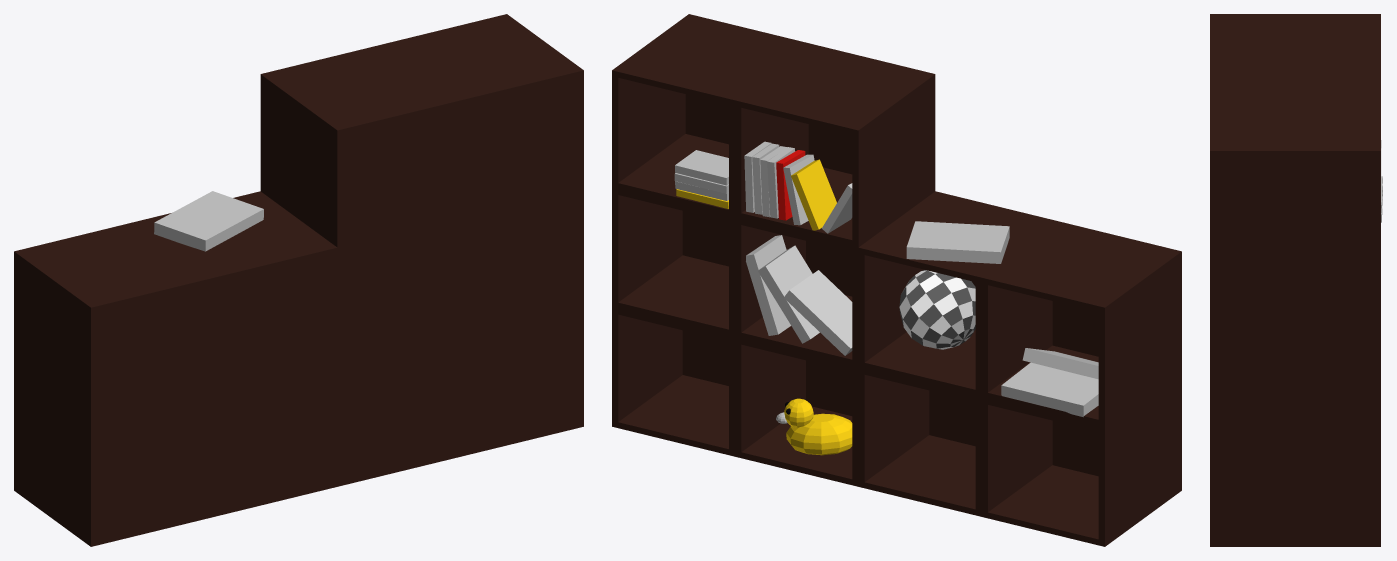
3 views of the same model, side by side, from view 1: azimuth 30°, elevation 25°; view 2: azimuth 150°, elevation 25°; view 3: azimuth 270°, elevation 25° (orthographic). The views are drawn at different scales.
Visible parts, largest first — view 1: group1329329239, group159381947; view 2: group1329329239, group1602327308, group159381947, group258849837, group287812142, group1066987434, group285218960, group2577447, group1245885350, group589443044, group1429174951, group1792446406 (+3 smaller); view 3: group1329329239.
Part boxes in pixels (bbox=[...]): group1329329239: bbox=[14, 14, 583, 546]; group159381947: bbox=[154, 191, 263, 251]; group1329329239: bbox=[612, 14, 1181, 546]; group1602327308: bbox=[899, 270, 975, 349]; group159381947: bbox=[906, 221, 1009, 263]; group258849837: bbox=[1001, 362, 1098, 417]; group287812142: bbox=[784, 270, 852, 355]; group1066987434: bbox=[776, 398, 852, 455]; group285218960: bbox=[758, 245, 819, 343]; group2577447: bbox=[746, 235, 790, 335]; group1245885350: bbox=[791, 159, 836, 230]; group589443044: bbox=[675, 150, 728, 185]; group1429174951: bbox=[1022, 348, 1098, 379]; group1792446406: bbox=[783, 154, 814, 225]; group1329329239: bbox=[1210, 14, 1380, 546].
Size of the model in its own units: 2.07 by 1.43 by 0.5663.
